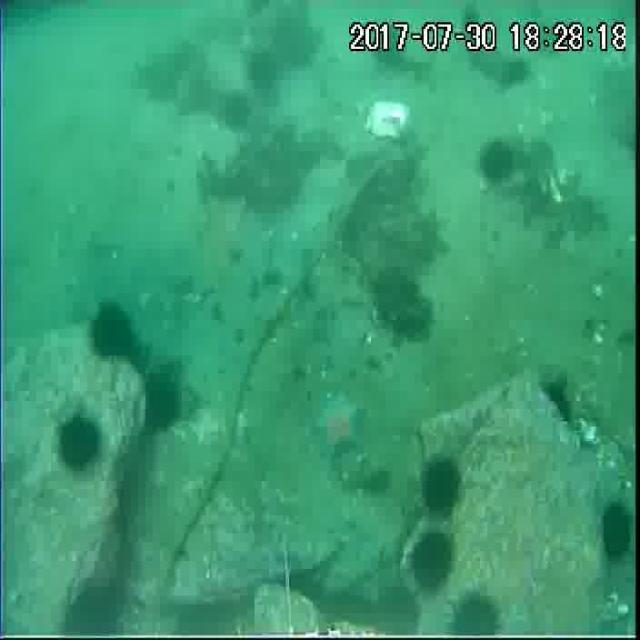echinus: (370, 262, 437, 344), (87, 299, 139, 365), (445, 585, 504, 640), (416, 449, 463, 515), (408, 530, 455, 594), (142, 367, 183, 439), (54, 412, 101, 470), (600, 499, 638, 565), (476, 136, 516, 187), (219, 84, 256, 136), (243, 44, 278, 92), (540, 376, 576, 421)
starfish: (310, 387, 369, 461)
